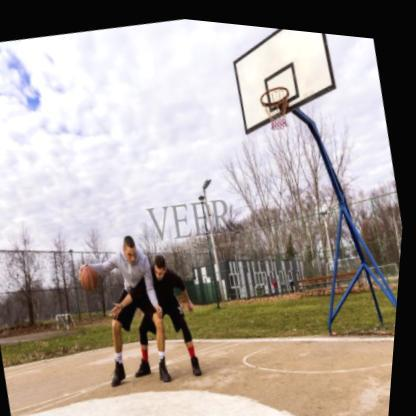basketball: (82, 260, 106, 291)
rim: (258, 77, 299, 128)
